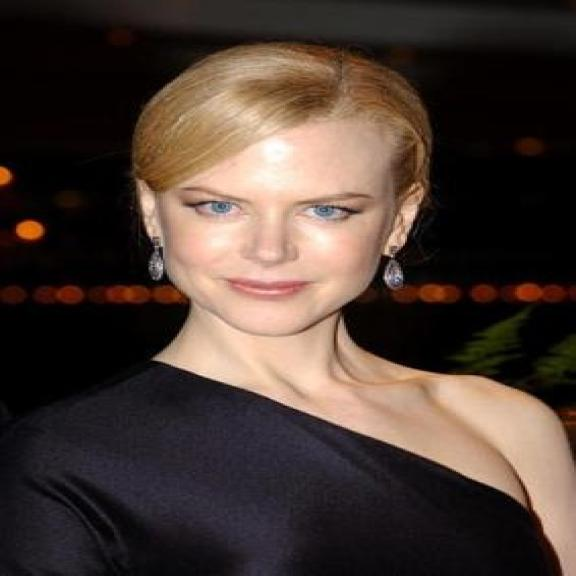face: (129, 93, 430, 342)
